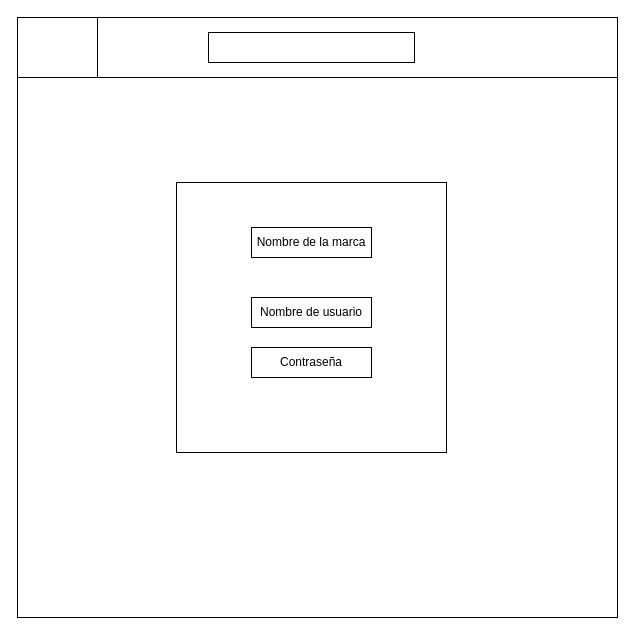
Image size: 635x635. Some labels were removed from this diagram. Each missing label, with the centre of its shape:
Barra de busqueda: point (311, 47)
Despliegable de opciones: point (57, 47)
